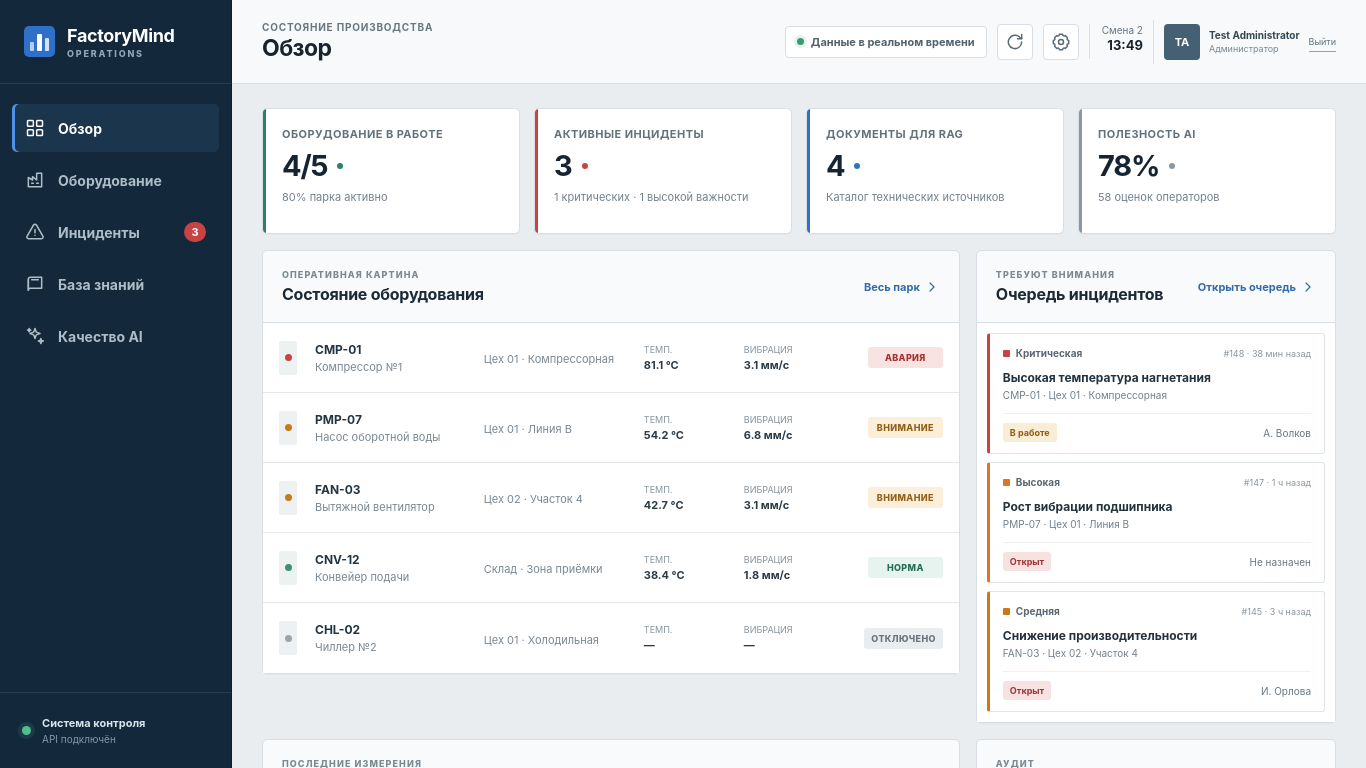
it: Навигация при сохранении инцидента › оставляет список и карточку на месте при ошибке сохранения
Check: the text "Данные в реальном времени" is shown, box [785, 26, 987, 58]
Click the button "Инциденты 3" at [116, 232], box [12, 208, 219, 256]
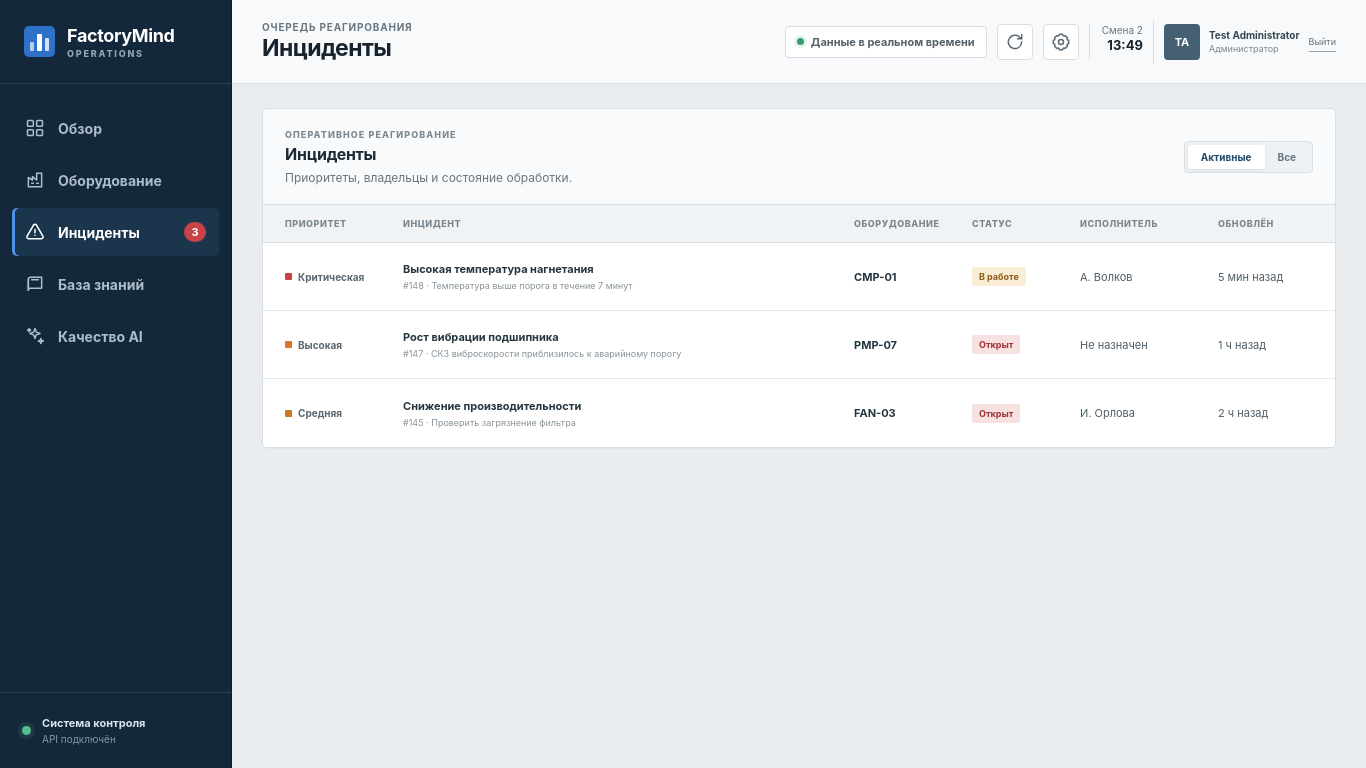
Click the button "Все" at [1287, 156], box [1264, 144, 1309, 168]
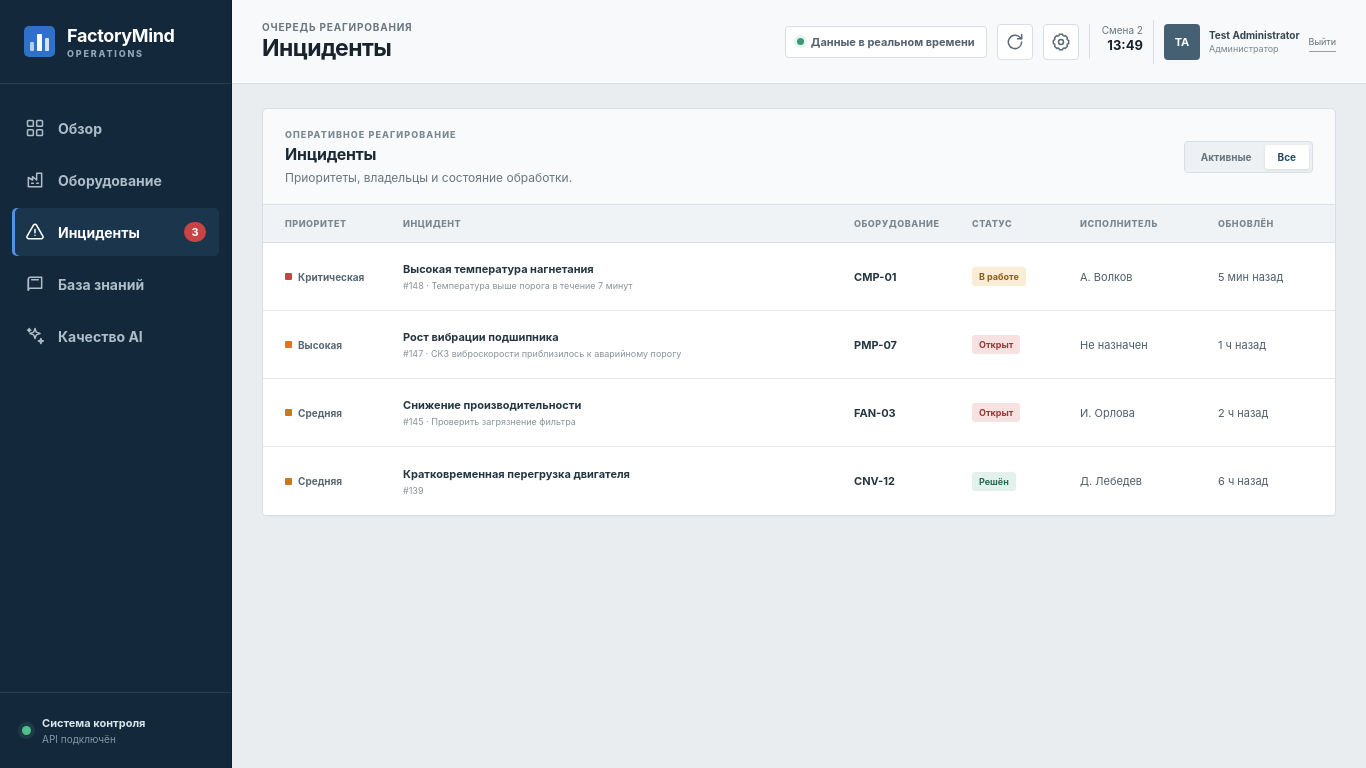
Click the button "Высокая температура нагнетания" at [331, 276], box [263, 243, 1335, 311]
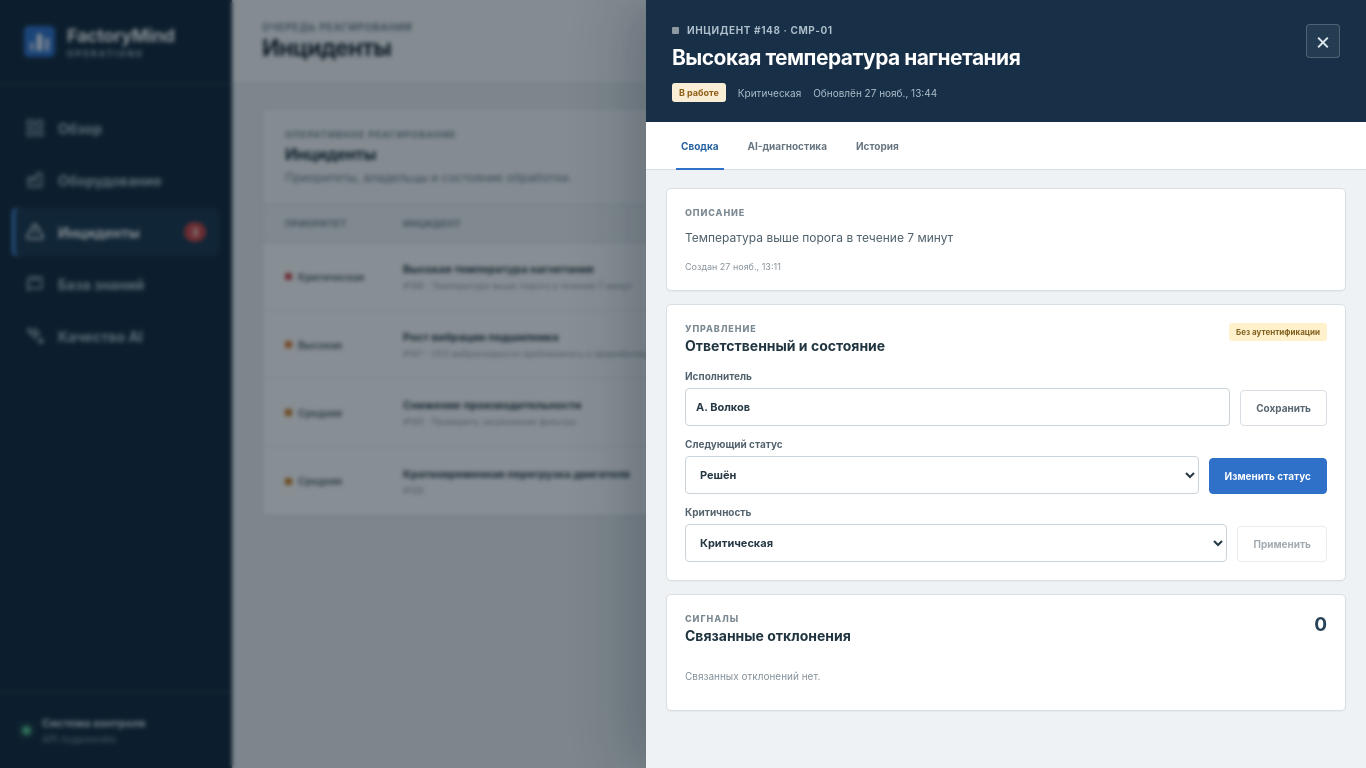
Select "Высокая" in the dropdown labelled "Критичность" at [956, 543], box [685, 524, 1227, 562]
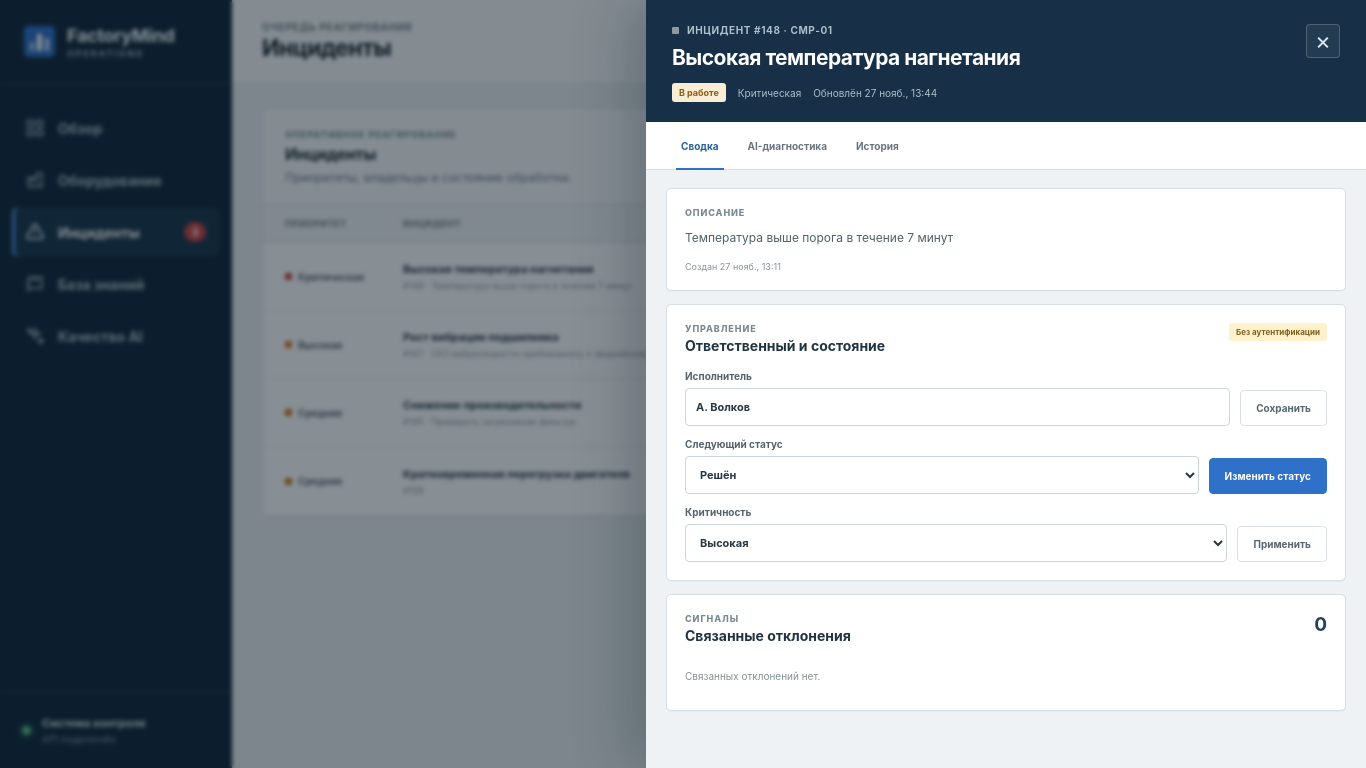
Click the button "Применить" at [1282, 544], box [1237, 526, 1327, 562]
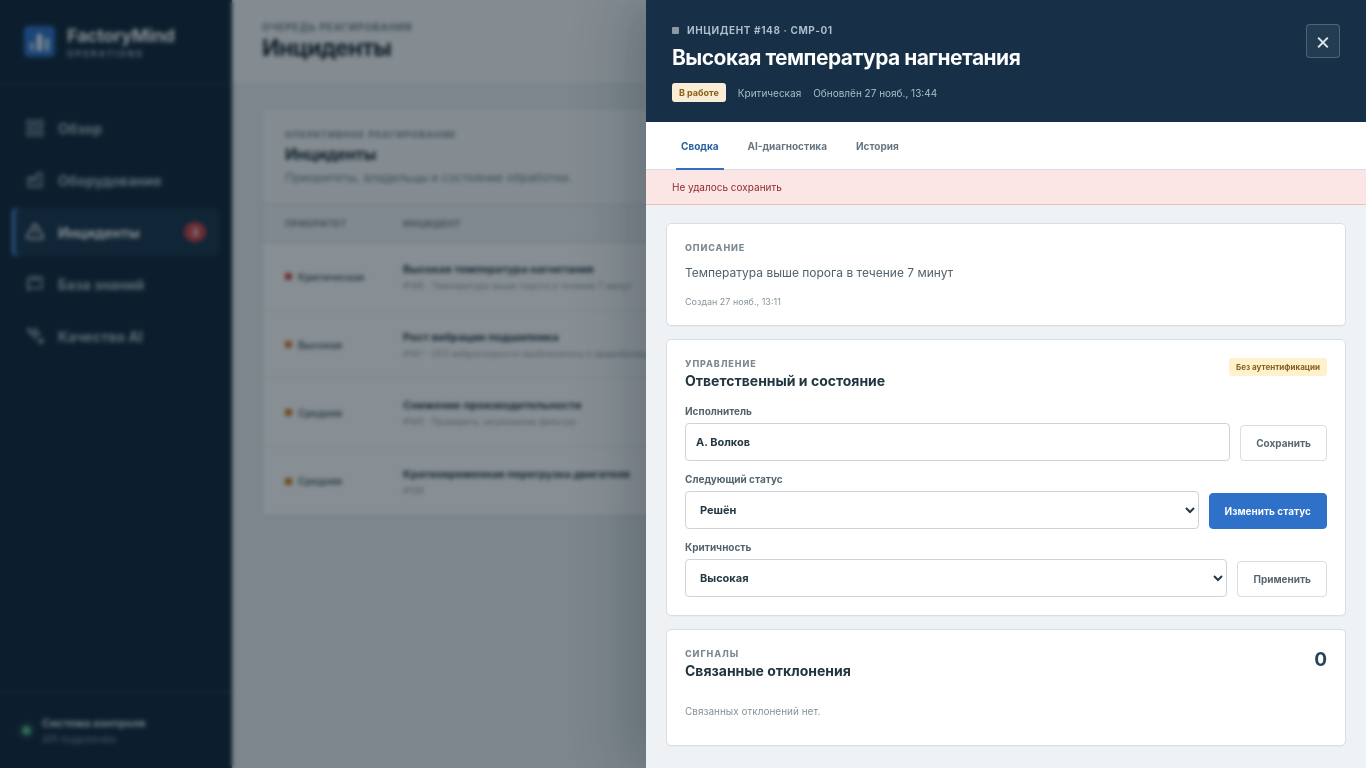
Check: the heading "Инциденты" is shown, box [262, 36, 412, 62]
Check: the dialog is shown, box [646, 0, 1365, 767]
Check: the text "Не удалось сохранить" is shown, box [646, 170, 1365, 205]
